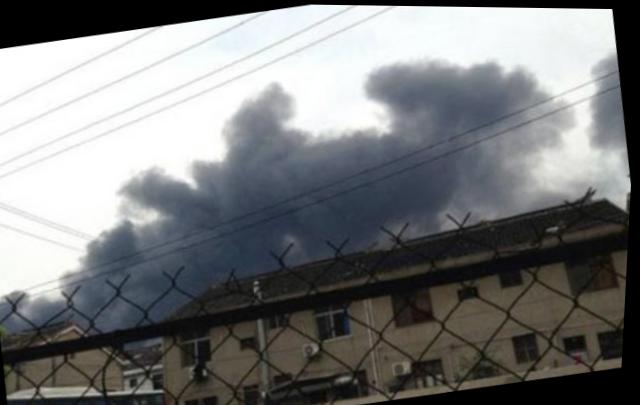smoke: (353, 42, 572, 221), (124, 137, 369, 252), (572, 41, 631, 152), (225, 78, 304, 155), (80, 226, 150, 278)
